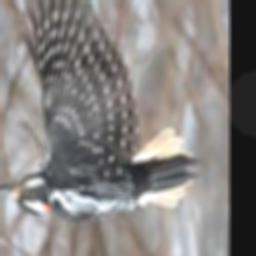Woodpecker: (0, 0, 199, 224)
